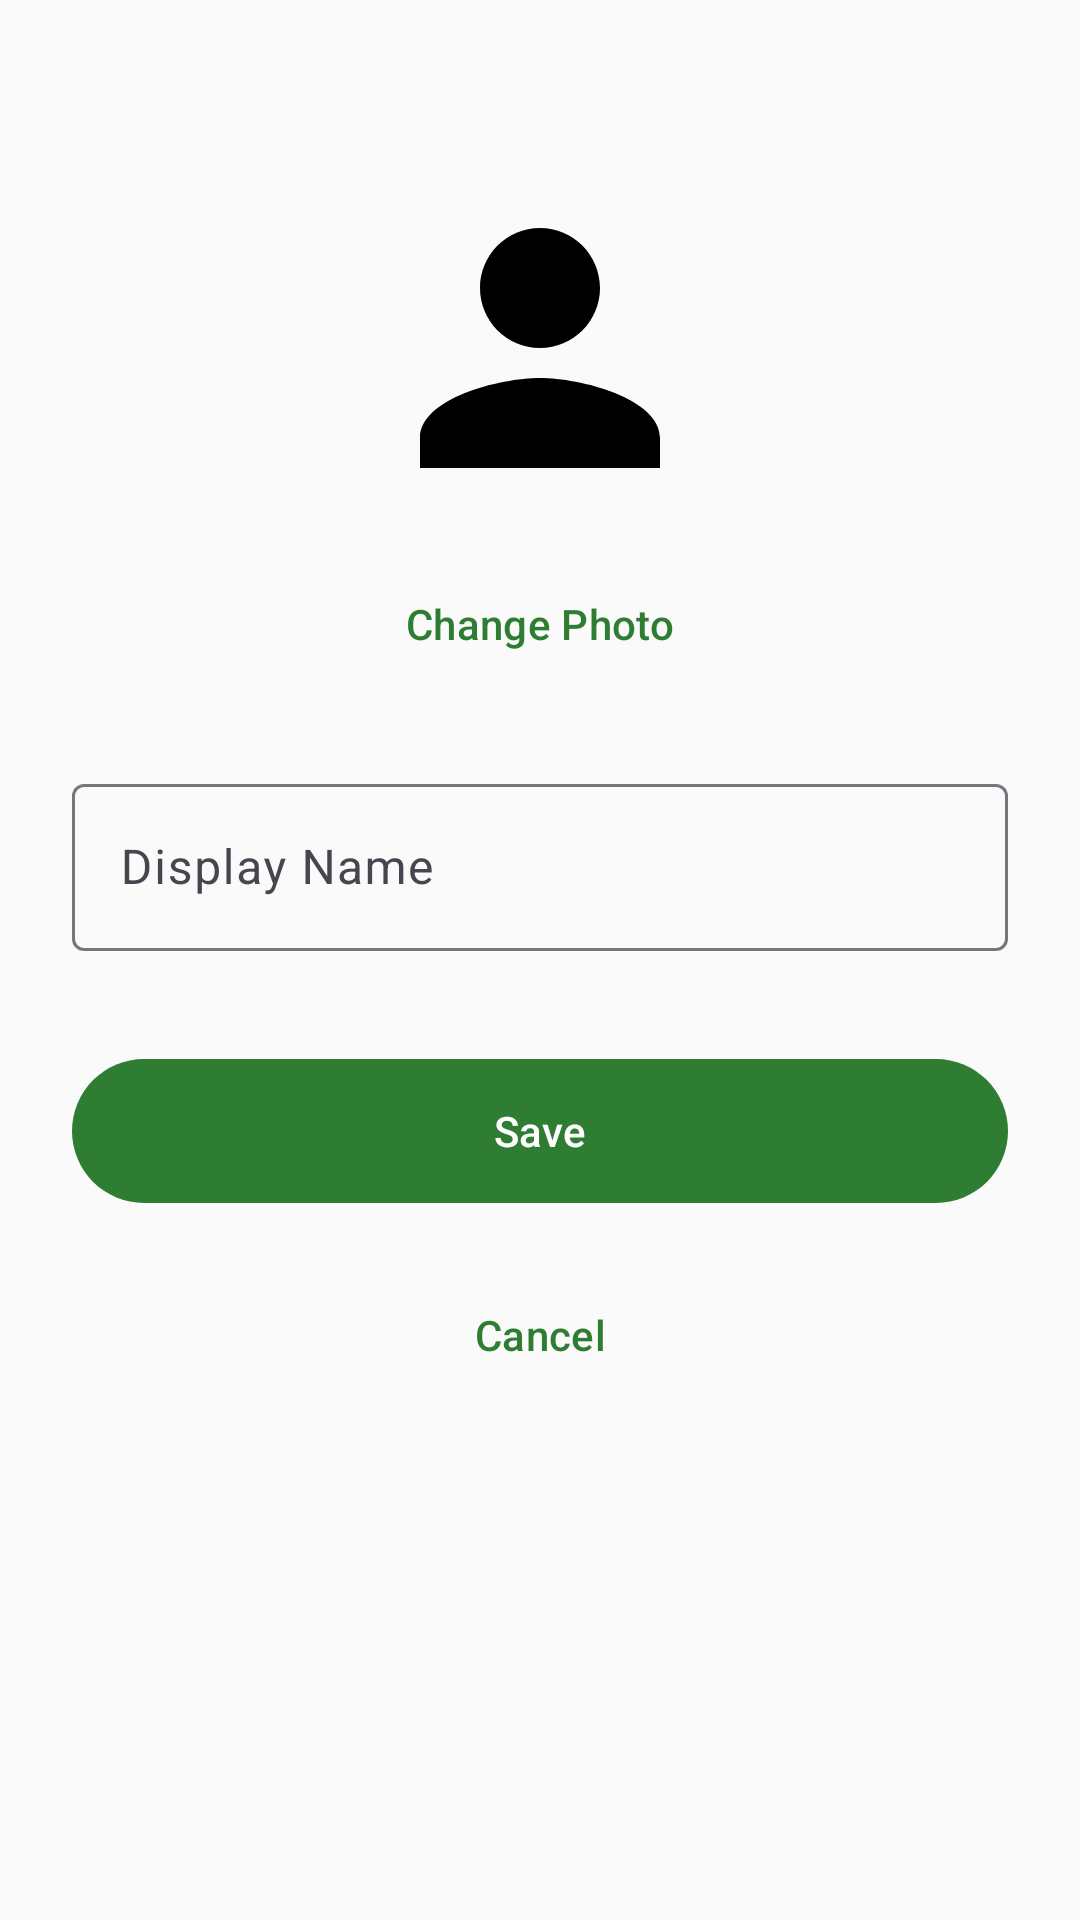

Point at icon controls on the screen. Image size 1080 x 1920, points as point (x, y).
Profile: point (540, 348)
